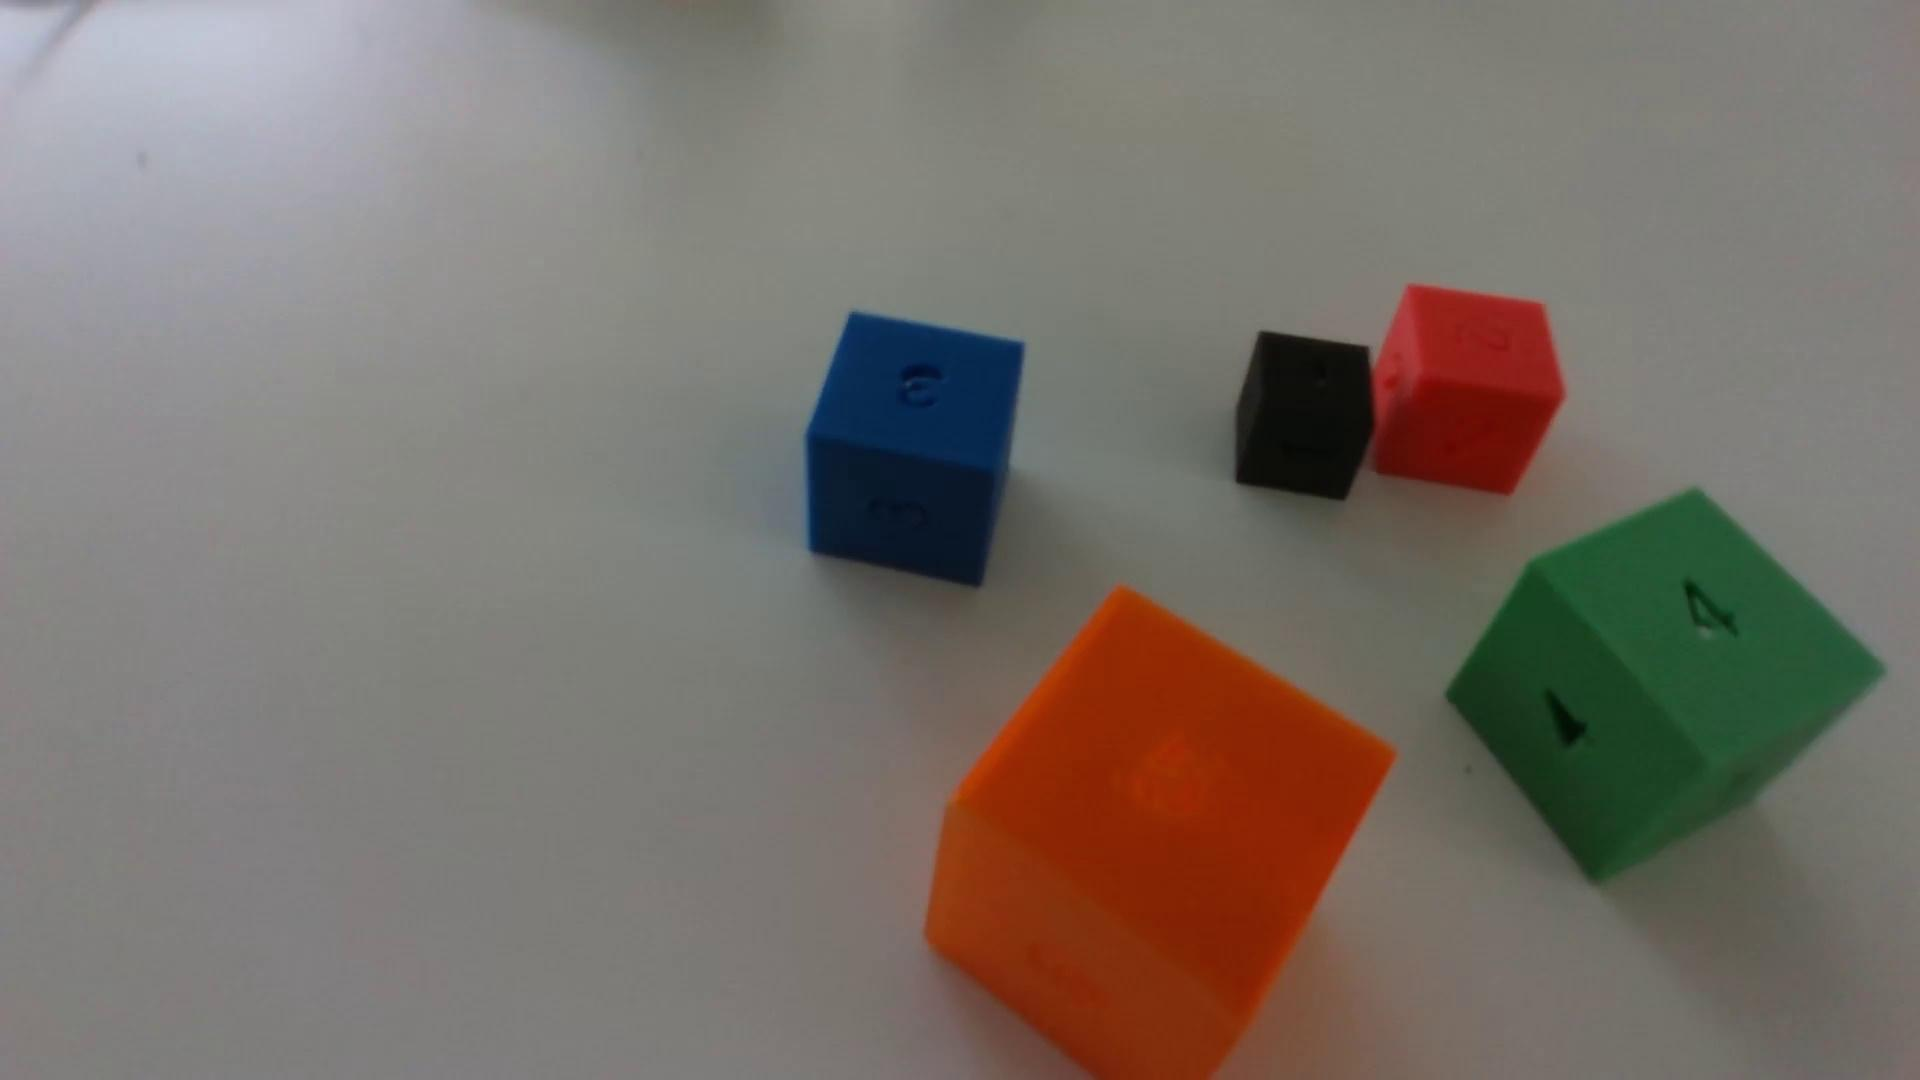black: (1234, 332, 1373, 501)
blue: (804, 313, 1025, 587)
green: (1447, 491, 1883, 881)
orange: (926, 588, 1394, 1080)
red: (1371, 286, 1564, 495)
